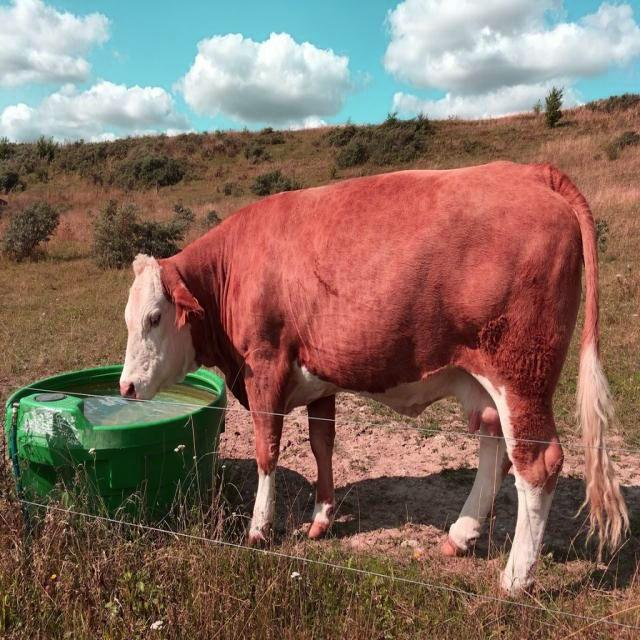cow: (120, 162, 628, 593)
